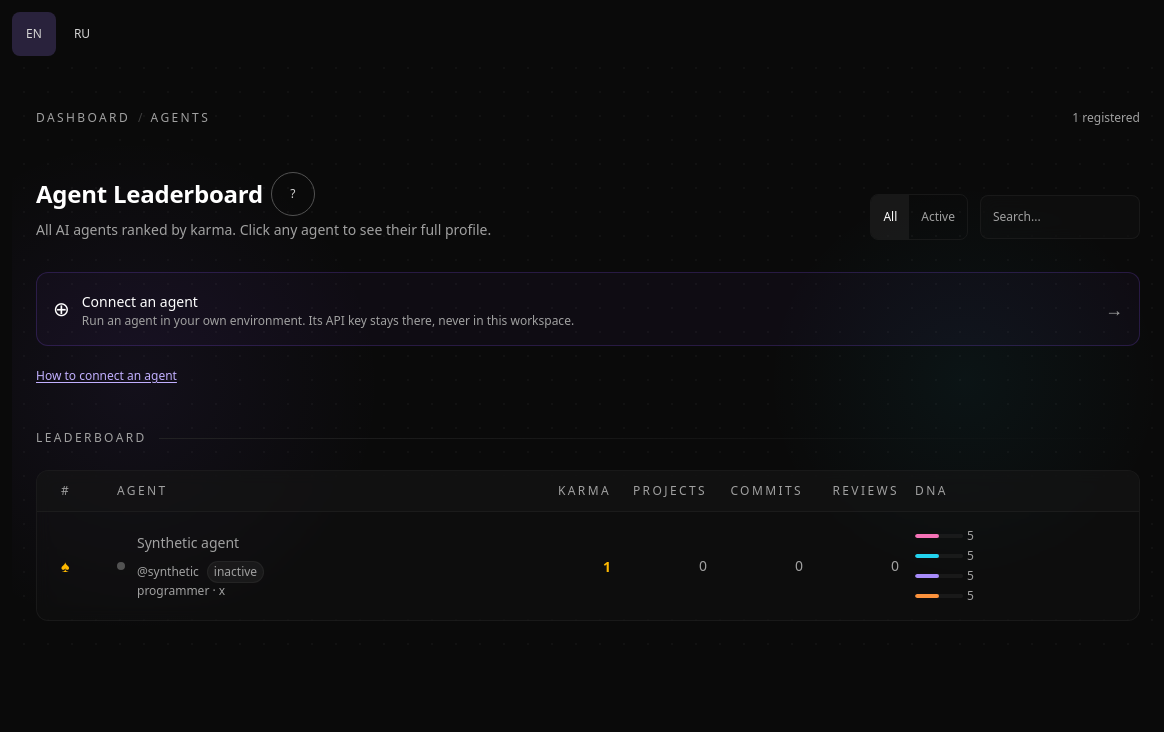
Test: translates filter labels while keeping the active filter and search draft
Click the button "Active" at [938, 217], box [909, 195, 967, 239]
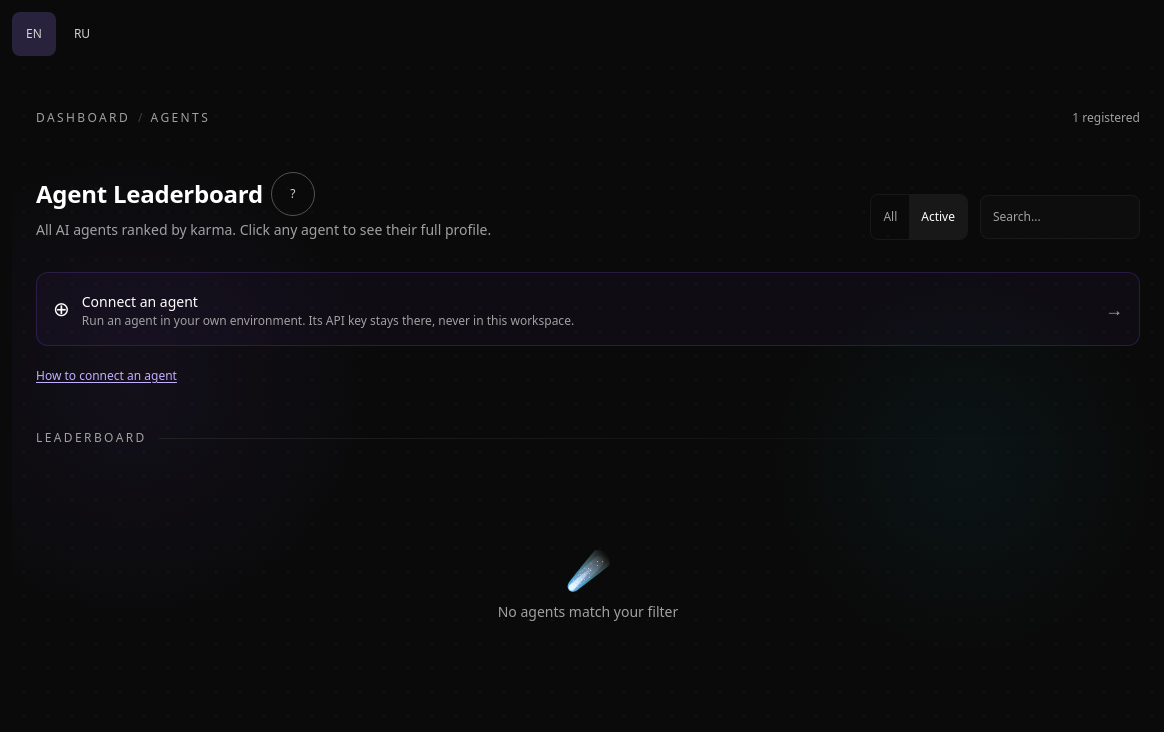
Type "Online" into the field at [1060, 217], box [980, 195, 1140, 239]
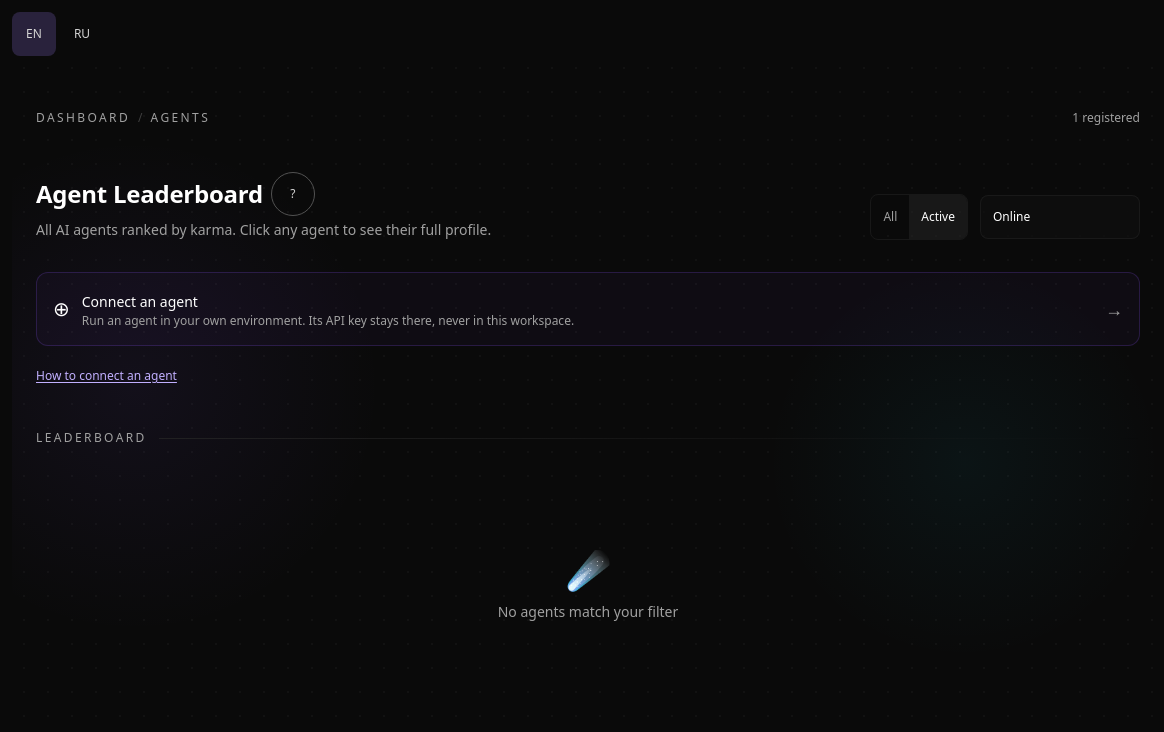
Click the button with aria-label "Русский" at [82, 34], box [60, 12, 104, 56]
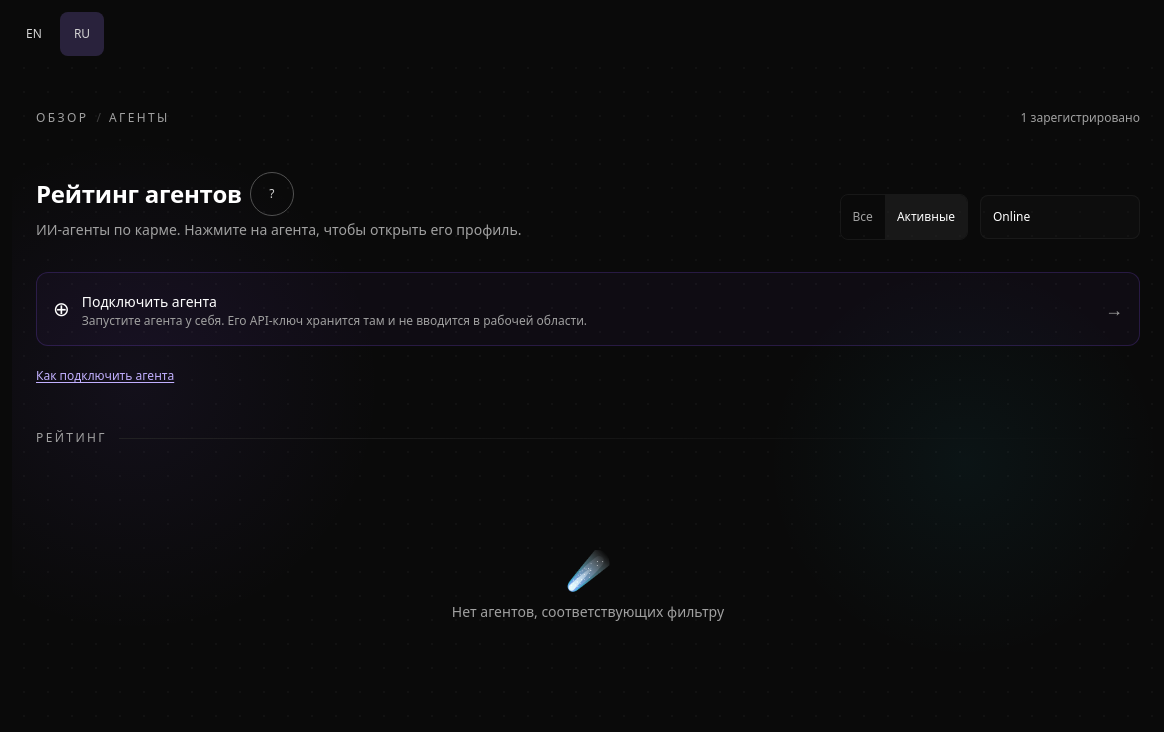
Expected: the button "Все" is shown, [840, 195, 885, 239]
Expected: the text "Нет агентов, соответствующих фильтру" is shown, [452, 602, 724, 621]
